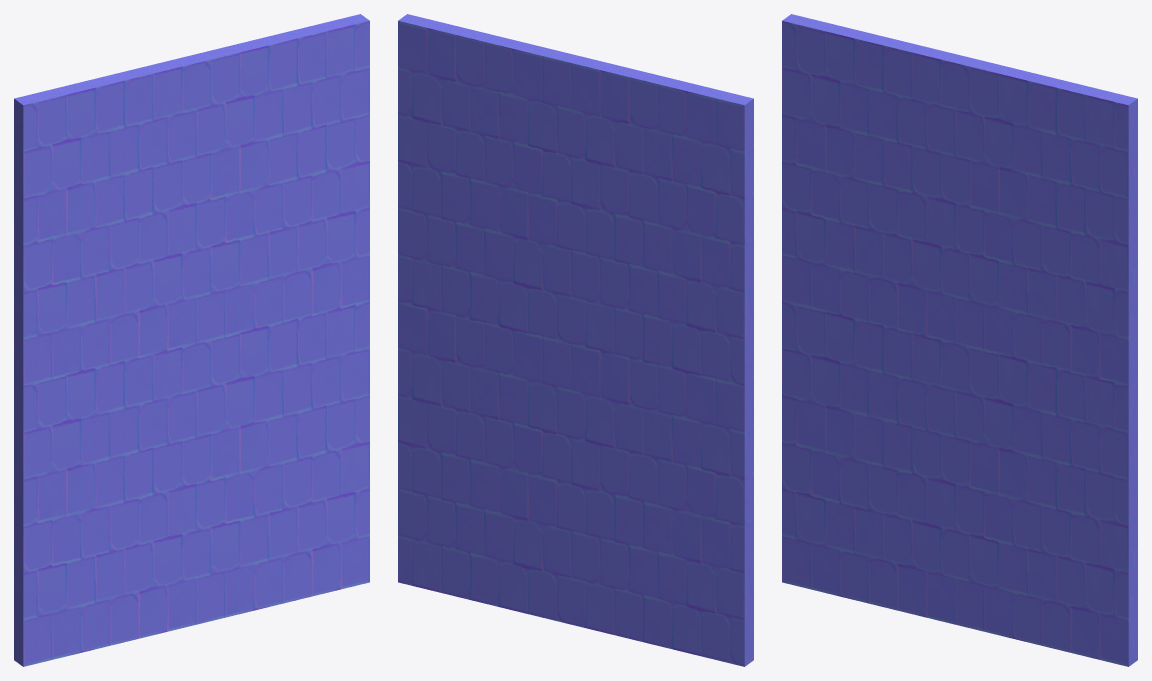
The model's file is GameObject (5).fbx.
3 renders of one model, left to right at view 1: azimuth 30°, elevation 25°; view 2: azimuth 150°, elevation 25°; view 3: azimuth 330°, elevation 25°, orthographic.
Visible parts, largest first — view 1: GameObject__5_; view 2: GameObject__5_; view 3: GameObject__5_.
Part boxes in pixels (<box>): GameObject__5_: <box>14,14,369,666</box>; GameObject__5_: <box>398,14,753,666</box>; GameObject__5_: <box>782,14,1137,666</box>.
Bounding box in the file's own units: 1400 × 2168 × 64.57.
